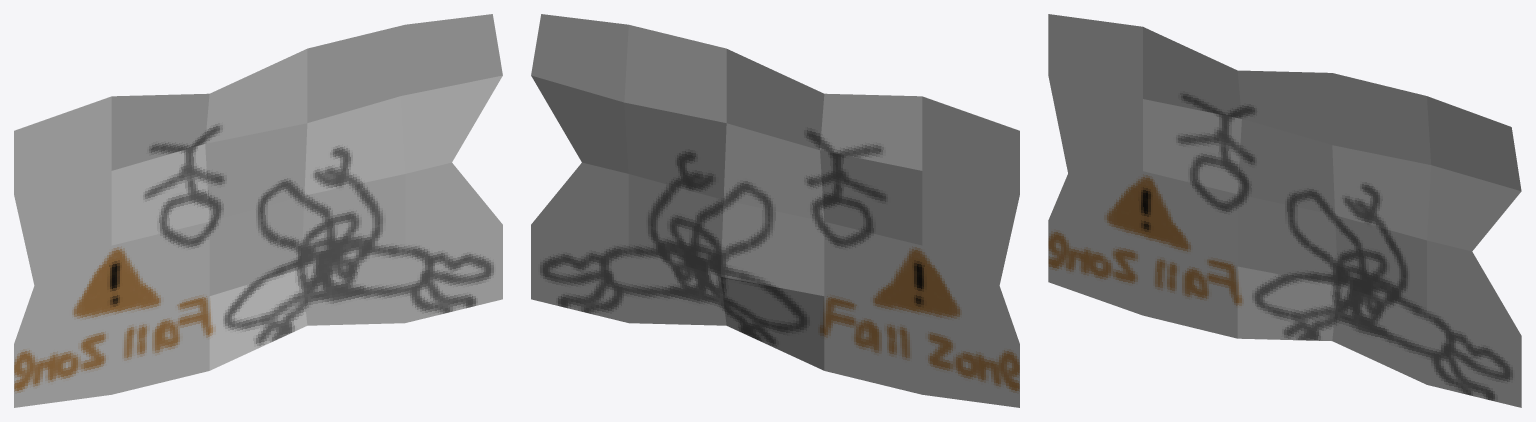
Rendered from gravityposter.gltf.
3 renders of one model, left to right at view 1: azimuth 30°, elevation 25°; view 2: azimuth 150°, elevation 25°; view 3: azimuth 330°, elevation 25°, orthographic. The views are drawn at different scales.
Visible parts, largest first — view 1: plane; view 2: plane; view 3: plane.
Part boxes in pixels (box(x1,y1,x2,y2)): plane: box(14, 14, 502, 407); plane: box(531, 14, 1019, 407); plane: box(1048, 14, 1521, 407).
Bounding box in the file's own units: 3 × 1.75 × 0.0625.
1 material, 1 textured.
